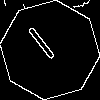I: (25, 25, 64, 69)
